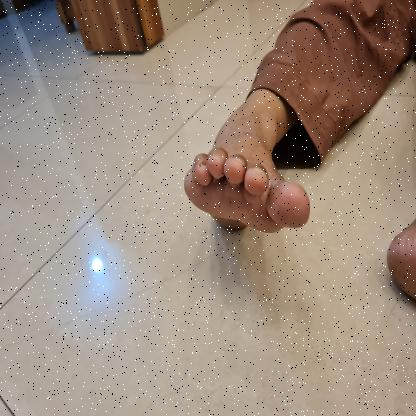leg: (175, 84, 315, 249)
